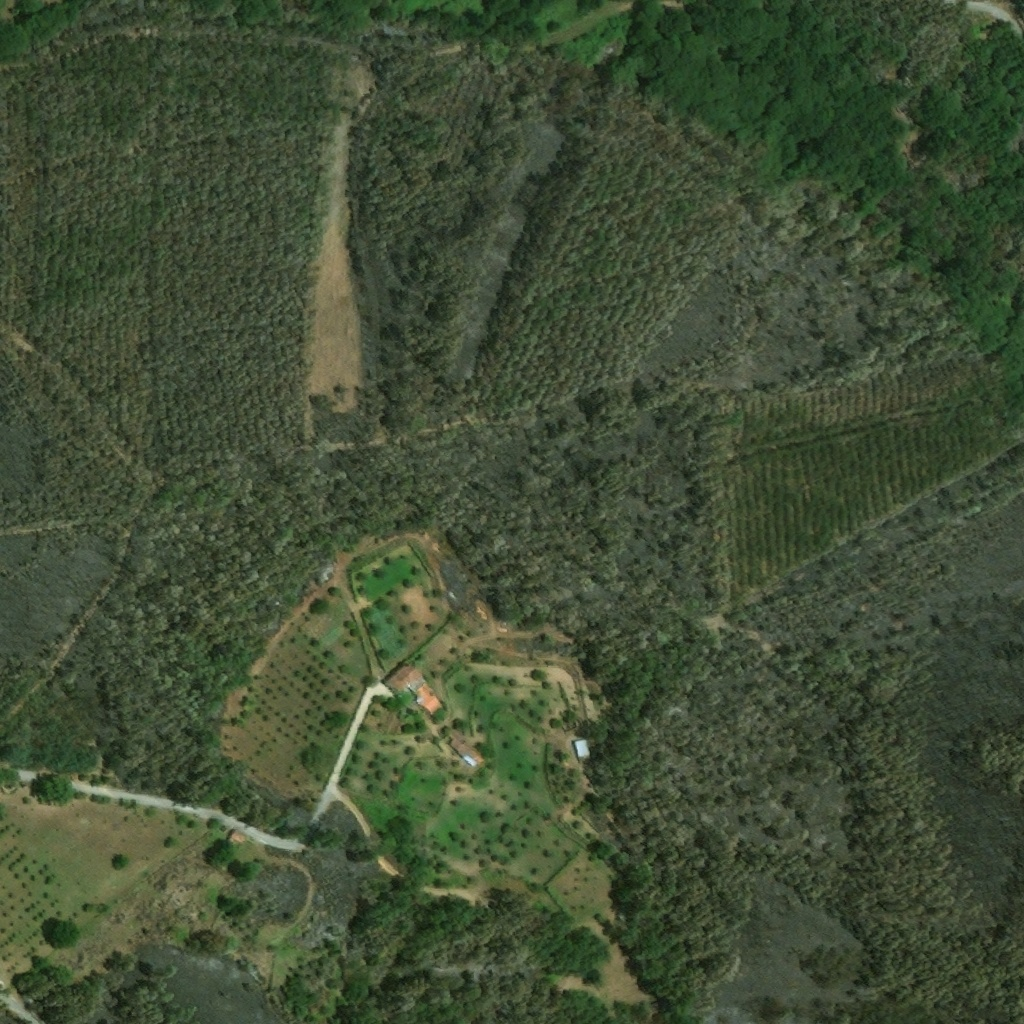0 no-damage: (383, 662, 446, 716), (446, 726, 485, 769), (573, 738, 593, 760)
